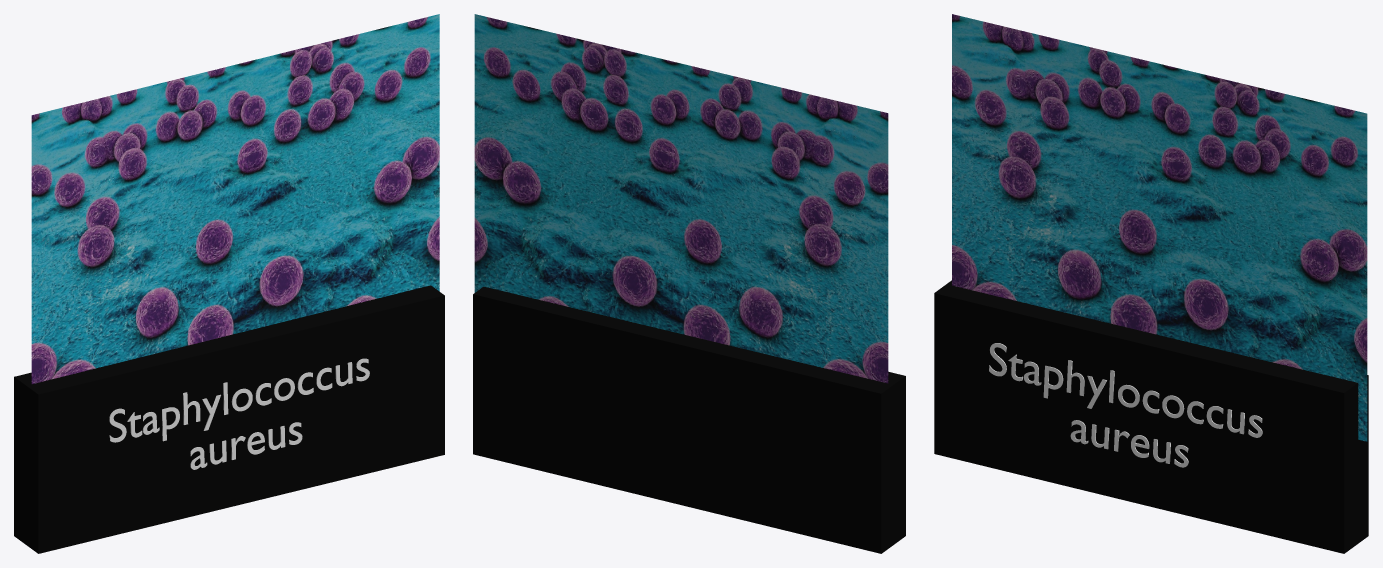
The model's file is staph.gltf.
3 views of the same model, side by side, from view 1: azimuth 30°, elevation 25°; view 2: azimuth 150°, elevation 25°; view 3: azimuth 330°, elevation 25° (orthographic).
Parts seen in each view (by area): view 1: sterile_science-staphylococcus_01-2, Cube.001, Text.001; view 2: sterile_science-staphylococcus_01-2, Cube.001; view 3: sterile_science-staphylococcus_01-2, Cube.001, Text.001.
Part boxes in pixels (x1,y1,x2,y2): sterile_science-staphylococcus_01-2: [31, 14, 439, 384]; Cube.001: [14, 285, 444, 553]; Text.001: [109, 358, 369, 469]; sterile_science-staphylococcus_01-2: [474, 14, 888, 383]; Cube.001: [473, 286, 905, 553]; sterile_science-staphylococcus_01-2: [952, 14, 1367, 441]; Cube.001: [934, 280, 1368, 553]; Text.001: [989, 343, 1262, 467].
Bounding box in the file's own units: 2.08 × 2.05 × 0.2881.
2 materials, 1 textured.
